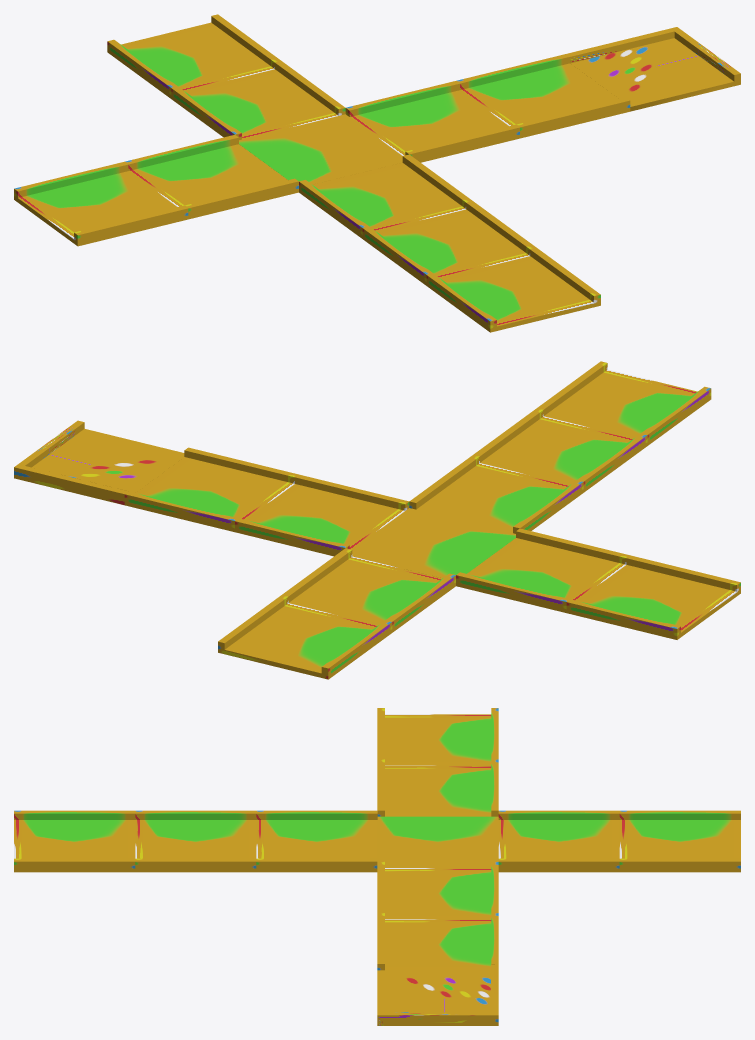
The model's file is faceGroundPath3.fbx.
The picture shows the model from 3 angles, top to bottom: view 1: azimuth 30°, elevation 25°; view 2: azimuth 150°, elevation 25°; view 3: azimuth 270°, elevation 25°; orthographic projection. The views are drawn at different scales.
Parts seen in each view (by area): view 1: pCube12, pCube16, pCube5, pCube10, pCube13, pCube11, pCube8, pCube15, pCube14, pCube9, pCube7; view 2: pCube12, pCube14, pCube10, pCube13, pCube11, pCube16, pCube9, pCube5, pCube15, pCube8, pCube7; view 3: pCube9, pCube8, pCube14, pCube5, pCube15, pCube16, pCube10, pCube13, pCube11, pCube12, pCube7.
Boxes of the visible parts, x1=… form: pCube12: x1=14, y1=161, x2=188, y2=246; pCube16: x1=567, y1=27, x2=740, y2=111; pCube5: x1=426, y1=248, x2=600, y2=332; pCube10: x1=125, y1=135, x2=298, y2=219; pCube13: x1=456, y1=54, x2=630, y2=138; pCube11: x1=345, y1=81, x2=519, y2=162; pCube8: x1=171, y1=61, x2=345, y2=139; pCube15: x1=362, y1=201, x2=536, y2=285; pCube14: x1=107, y1=14, x2=281, y2=98; pCube9: x1=299, y1=154, x2=472, y2=238; pCube7: x1=239, y1=114, x2=402, y2=184; pCube12: x1=566, y1=555, x2=740, y2=639; pCube14: x1=218, y1=595, x2=392, y2=679; pCube10: x1=456, y1=528, x2=629, y2=612; pCube13: x1=124, y1=447, x2=298, y2=532; pCube11: x1=235, y1=474, x2=409, y2=556; pCube16: x1=14, y1=420, x2=184, y2=505; pCube9: x1=409, y1=454, x2=583, y2=533; pCube5: x1=537, y1=361, x2=711, y2=445; pCube15: x1=473, y1=408, x2=647, y2=492; pCube8: x1=282, y1=548, x2=455, y2=632; pCube7: x1=352, y1=508, x2=515, y2=578; pCube9: x1=256, y1=810, x2=377, y2=872; pCube8: x1=498, y1=810, x2=619, y2=872; pCube14: x1=619, y1=810, x2=740, y2=872; pCube5: x1=14, y1=810, x2=135, y2=872; pCube15: x1=135, y1=810, x2=256, y2=872; pCube16: x1=377, y1=964, x2=498, y2=1025; pCube10: x1=377, y1=759, x2=498, y2=816; pCube13: x1=377, y1=913, x2=498, y2=970; pCube11: x1=377, y1=861, x2=498, y2=919; pCube12: x1=377, y1=708, x2=498, y2=765; pCube7: x1=377, y1=816, x2=498, y2=867.
Size of the model in its own units: 3.12 by 0.05 by 3.12.
